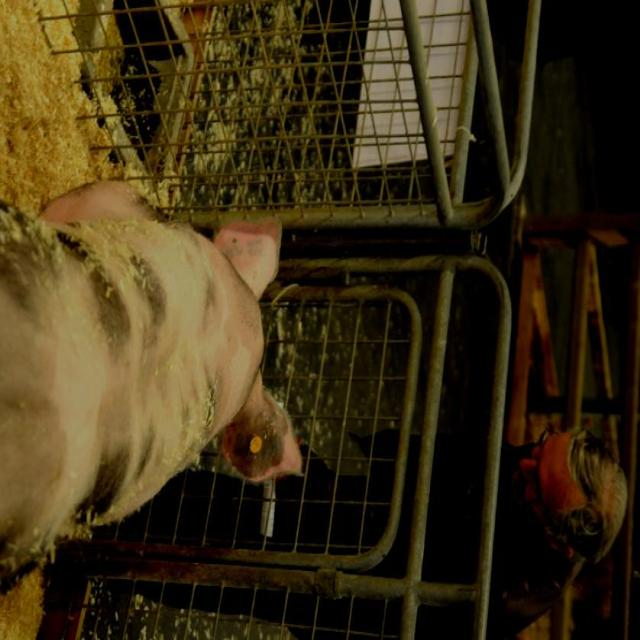pig: (0, 183, 301, 579)
